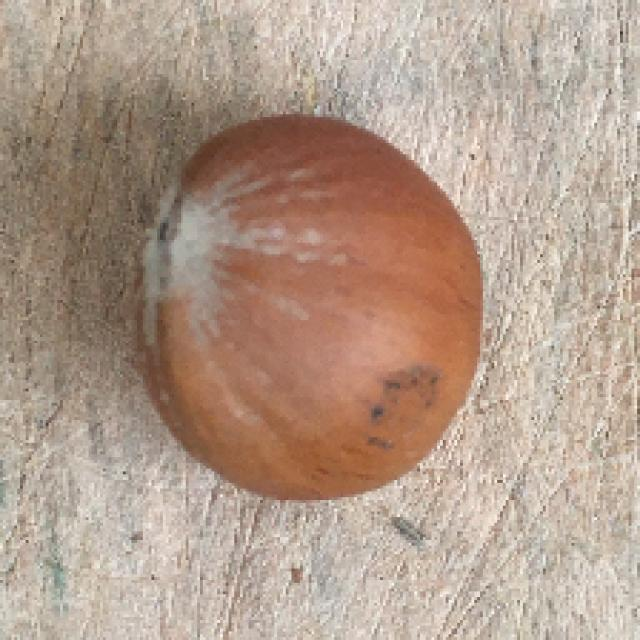damagedHazelnut: (134, 108, 490, 516)
